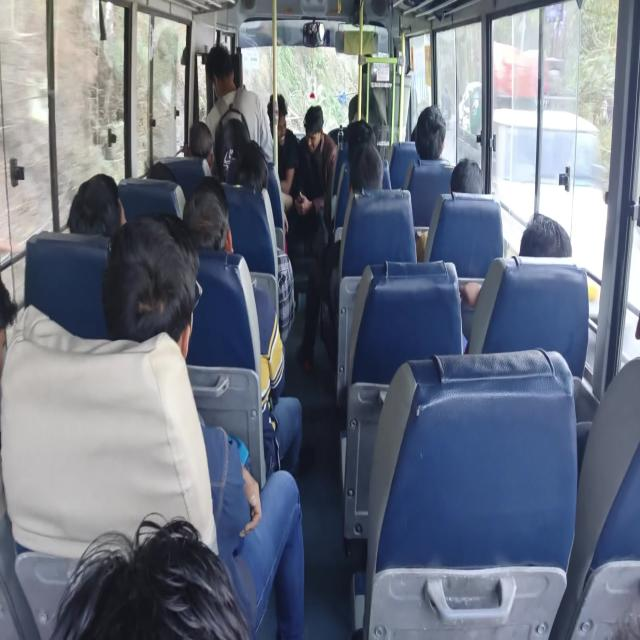person: (46, 513, 252, 638), (472, 213, 574, 353), (100, 217, 199, 352), (428, 158, 504, 313), (298, 104, 338, 234), (204, 45, 248, 131), (67, 174, 123, 239), (183, 179, 231, 250), (273, 94, 299, 214), (518, 212, 572, 260), (348, 138, 383, 197), (412, 105, 447, 162), (450, 157, 484, 196), (187, 120, 214, 168), (0, 275, 18, 334), (147, 161, 179, 182), (303, 104, 324, 130)
